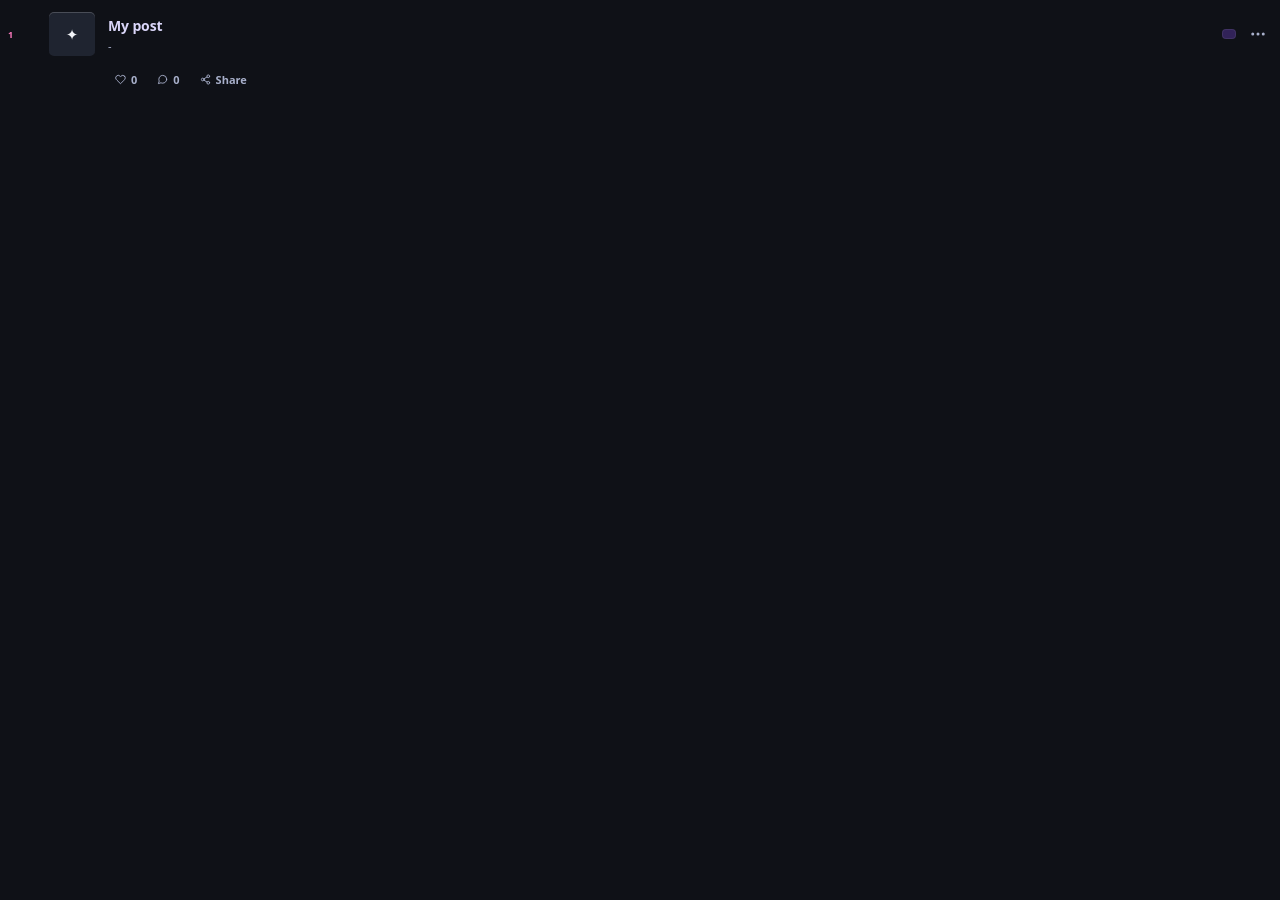
post deletion › keeps the post and count when deletion fails
Step 1. Click the button named "more options" → [1257, 34], box [1242, 19, 1272, 49]
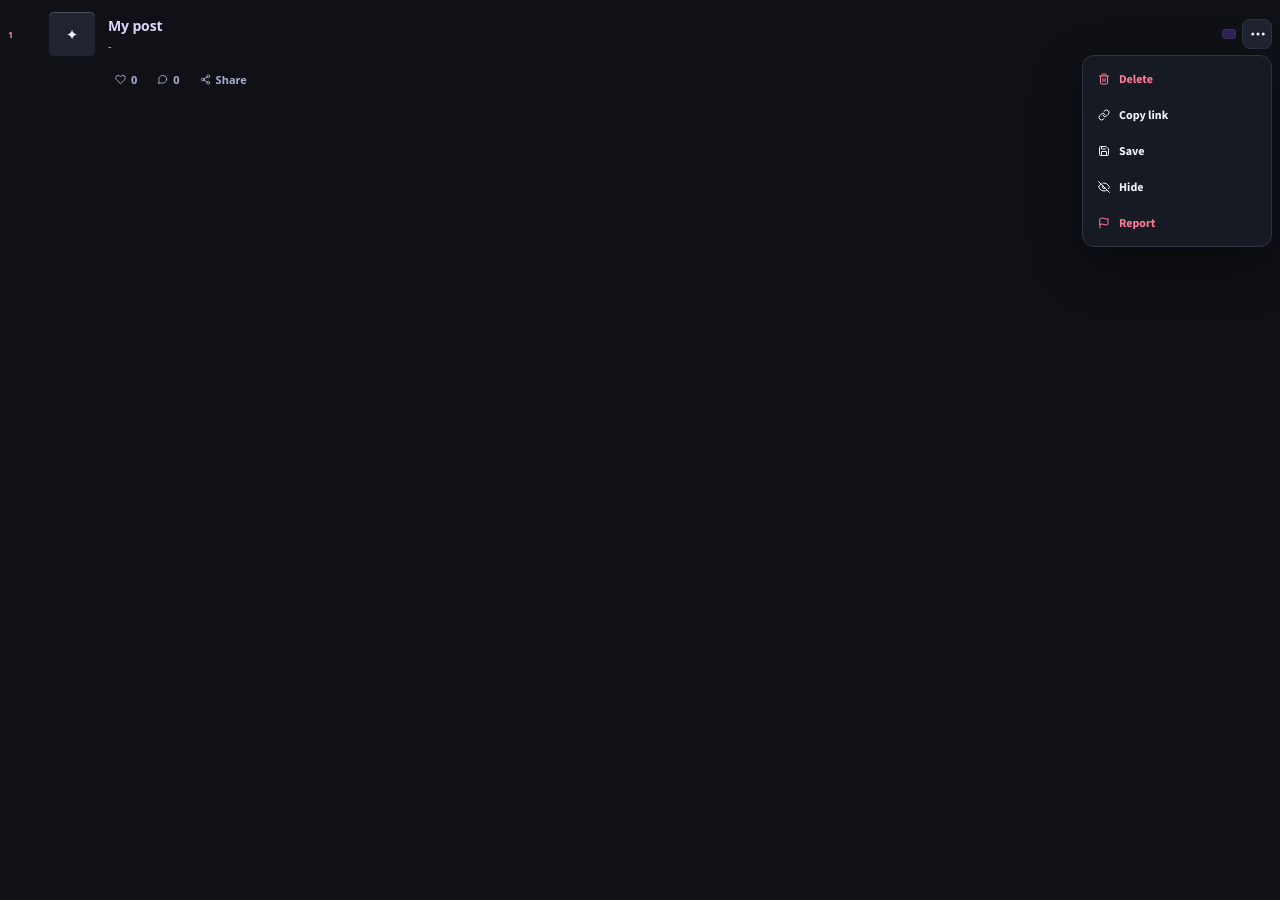
Step 2. Click the menu item "Delete" → [1177, 79], box [1088, 61, 1266, 97]
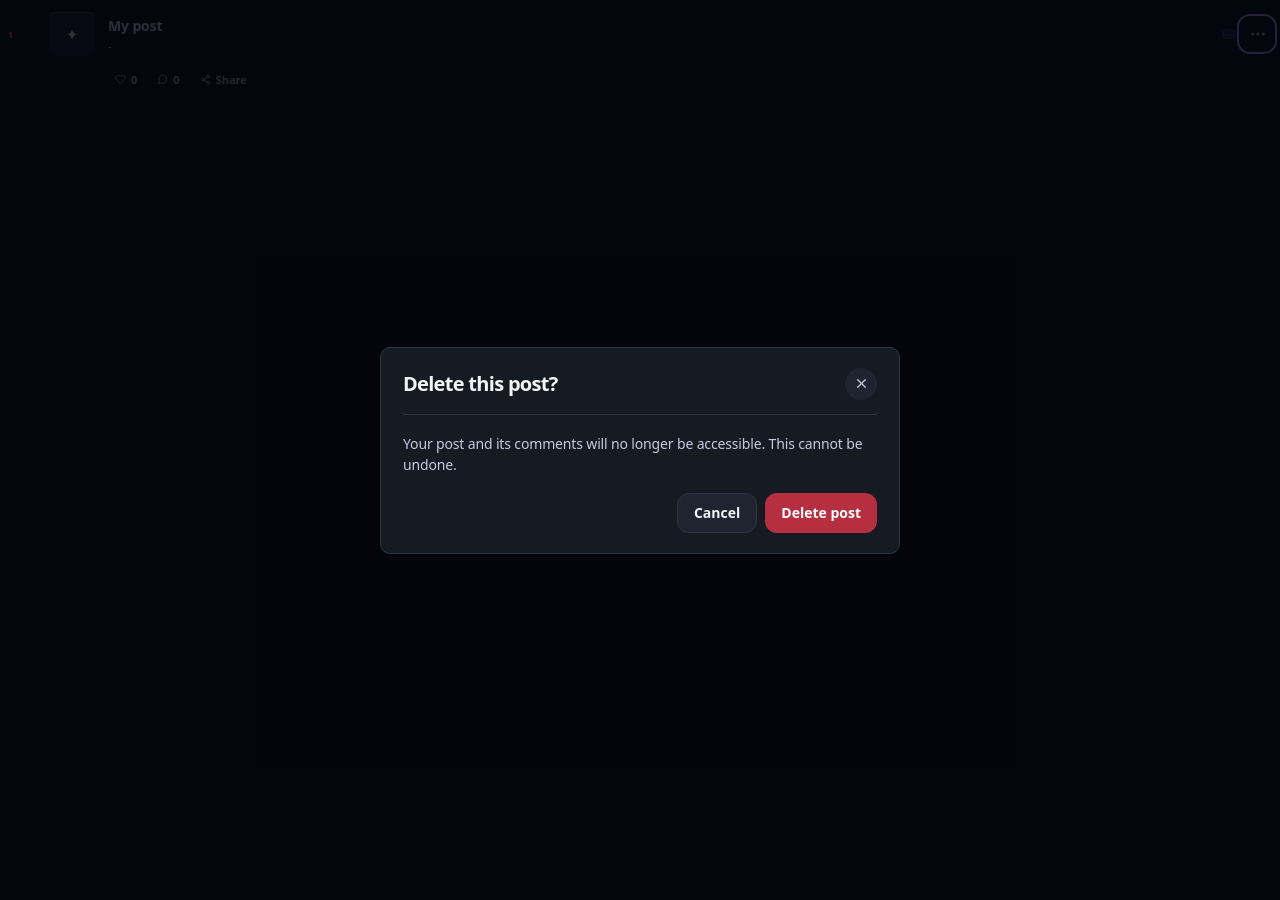
Step 3. Click the button "Delete post" → [821, 512], box [765, 492, 877, 532]
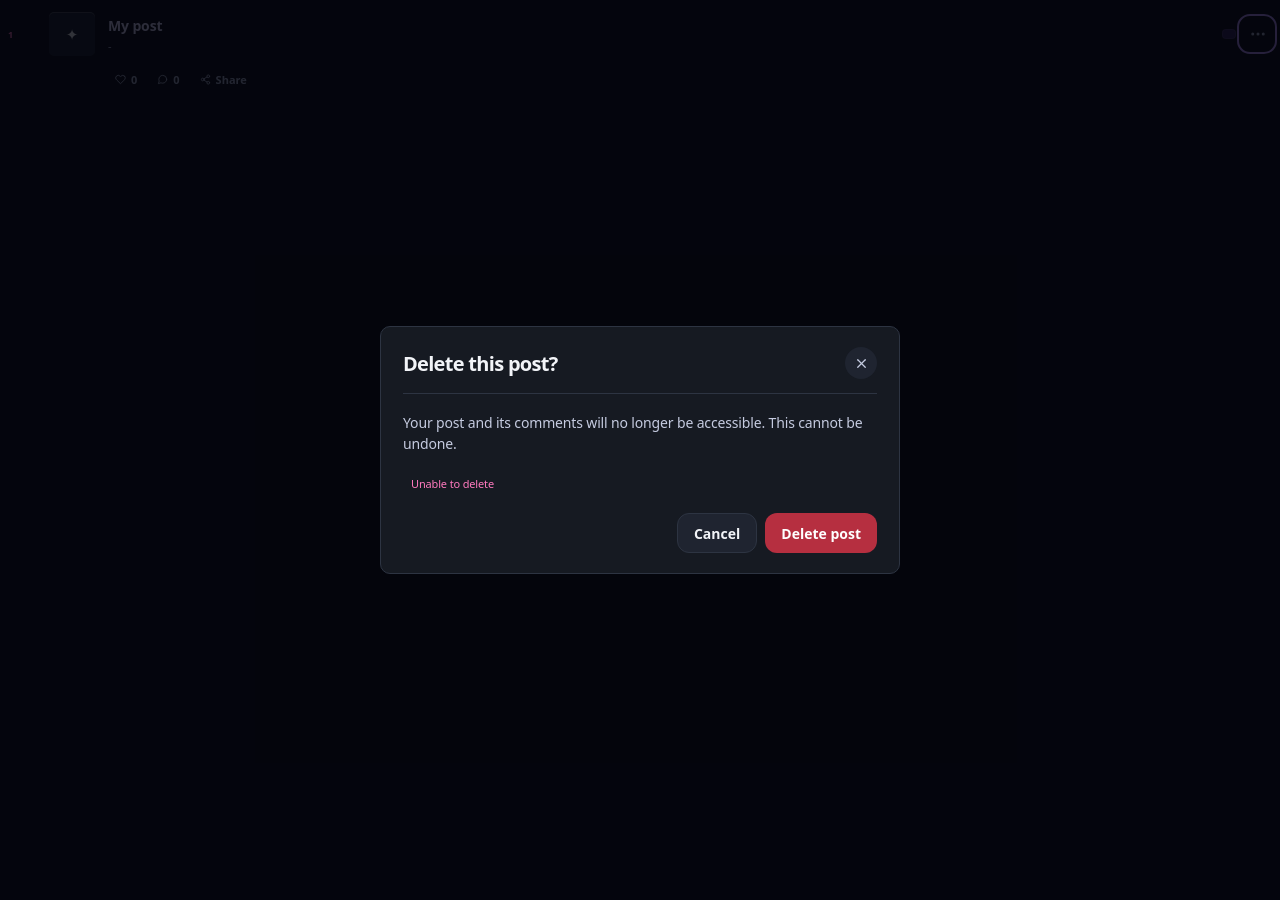
Now the message reads "Unable to delete", box [411, 476, 494, 491]
